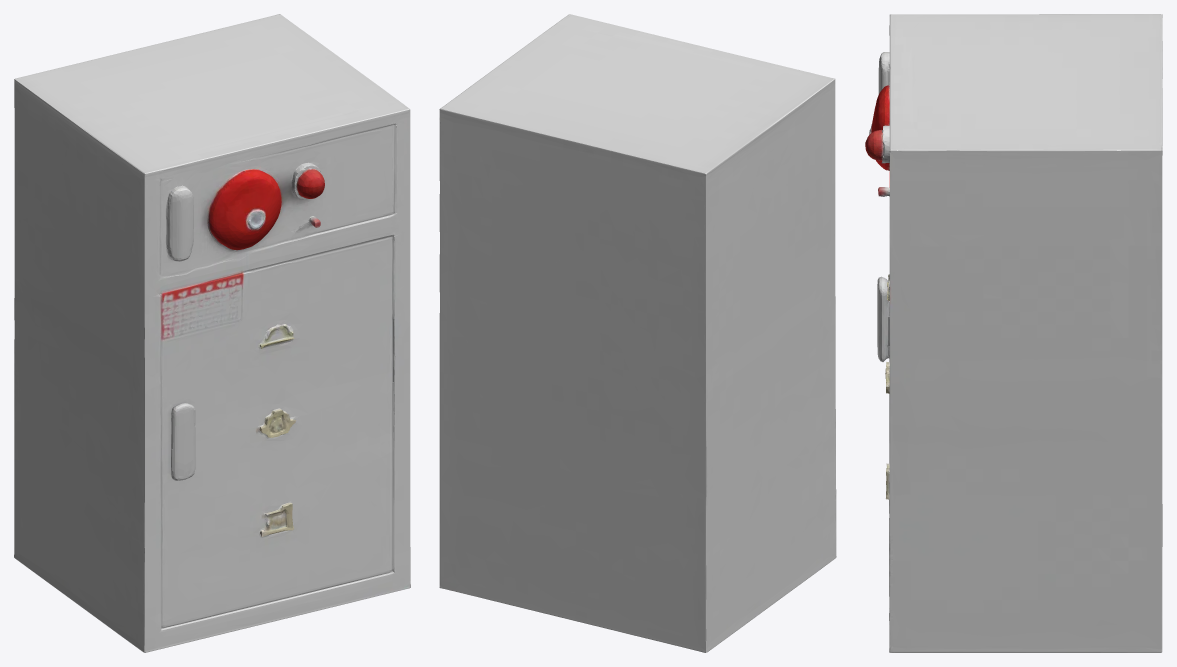
3 renders of one model, left to right at view 1: azimuth 30°, elevation 25°; view 2: azimuth 150°, elevation 25°; view 3: azimuth 270°, elevation 25°, orthographic. The views are drawn at different scales.
Visible parts, largest first — view 1: world; view 2: world; view 3: world.
Part boxes in pixels (x1,y1,x2,y2): world: (14,14,410,652); world: (439,14,836,652); world: (865,14,1162,652).
Size of the model in its own units: 0.5833 by 1 by 0.5363.
1 material, 1 textured.
